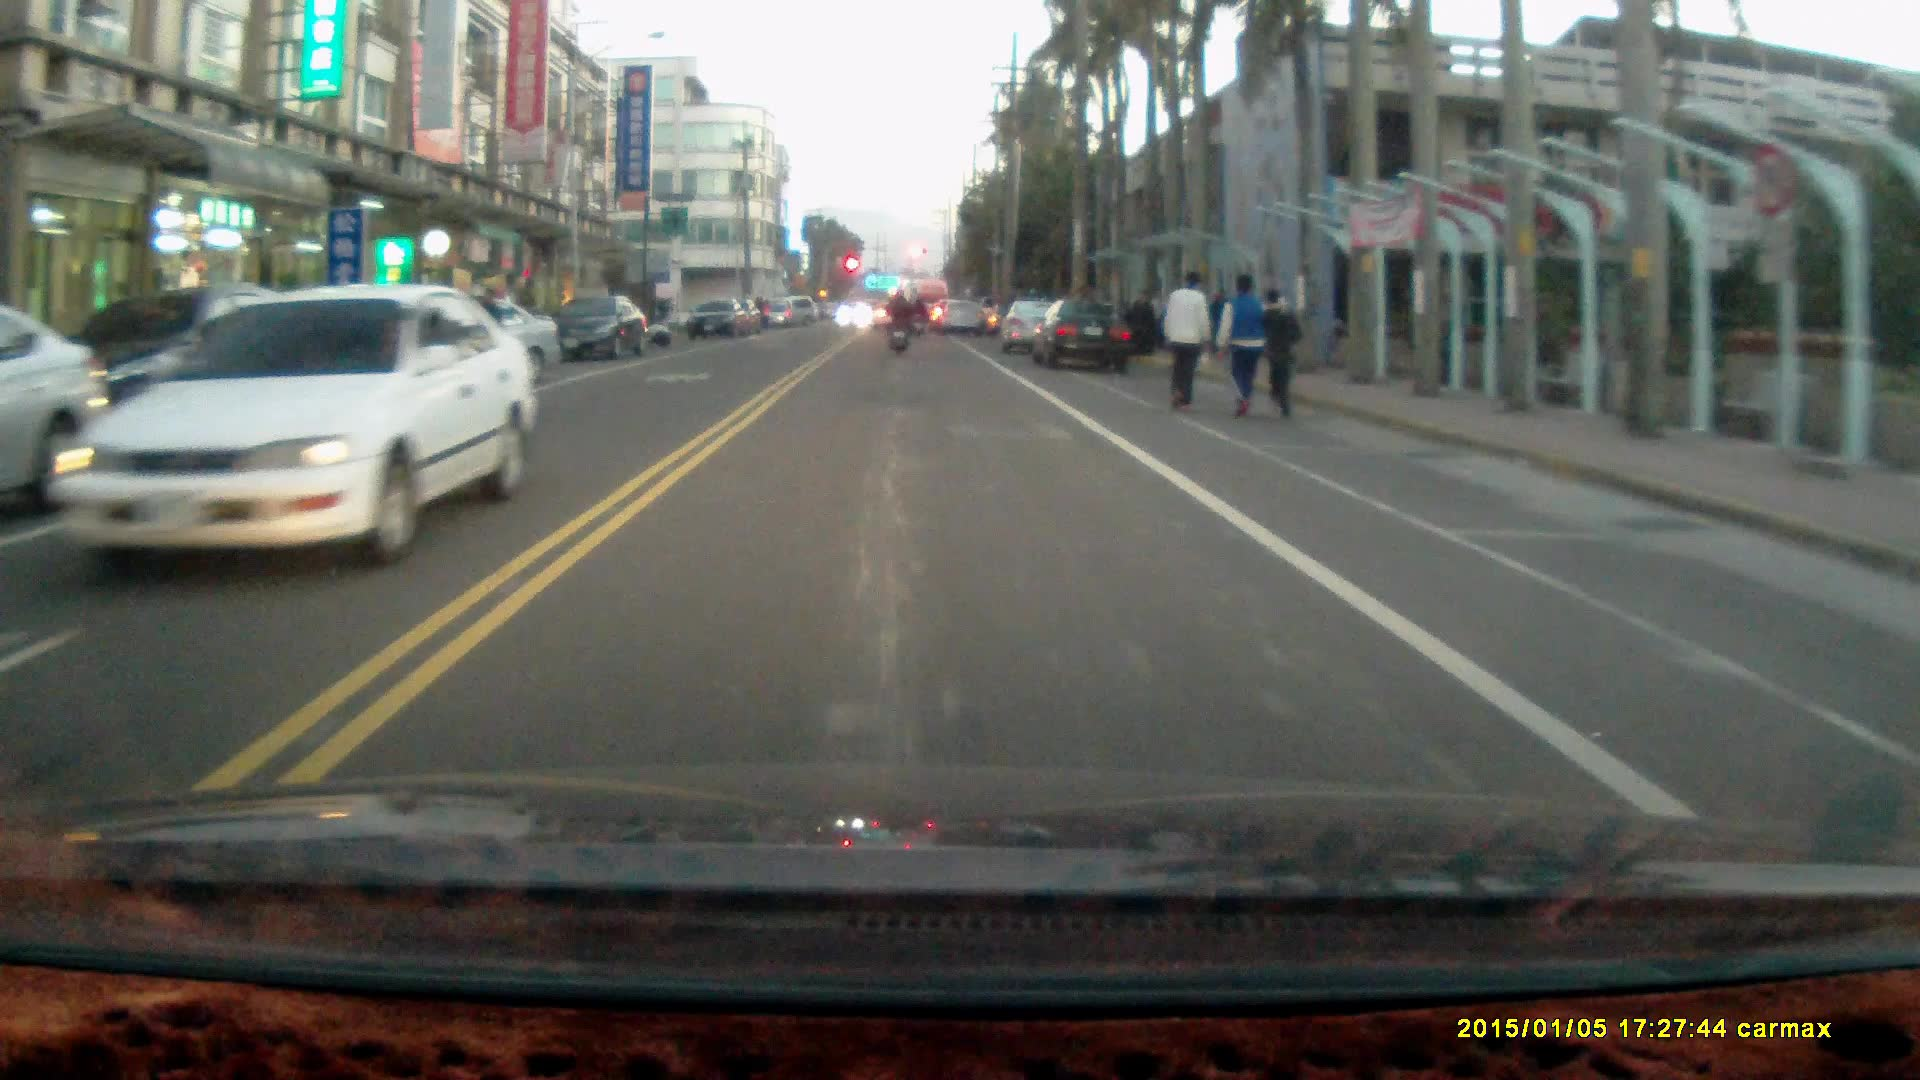pedestrian: (1159, 267, 1210, 417), (1215, 267, 1266, 417), (1256, 284, 1300, 422)
rider: (884, 285, 915, 356)
vehicle: (46, 286, 526, 574), (1, 298, 118, 516), (1037, 298, 1135, 373), (548, 293, 645, 365), (1001, 299, 1088, 359), (688, 298, 752, 340)
